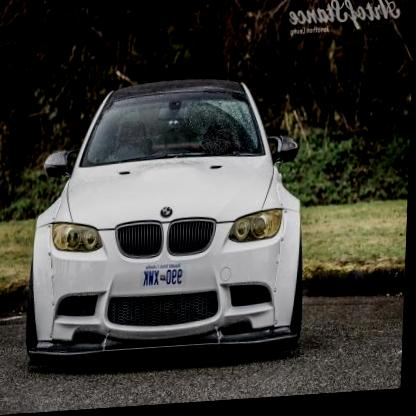License_Plate: (139, 261, 186, 290)
